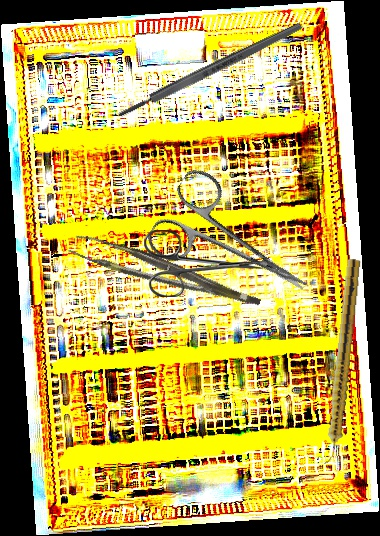Handpiece: (321, 258, 362, 466)
Iris Scissors: (141, 163, 329, 331), (144, 230, 266, 297)
Scalpel Handle: (114, 19, 306, 122)
Tissue Forceps: (67, 222, 262, 329)
